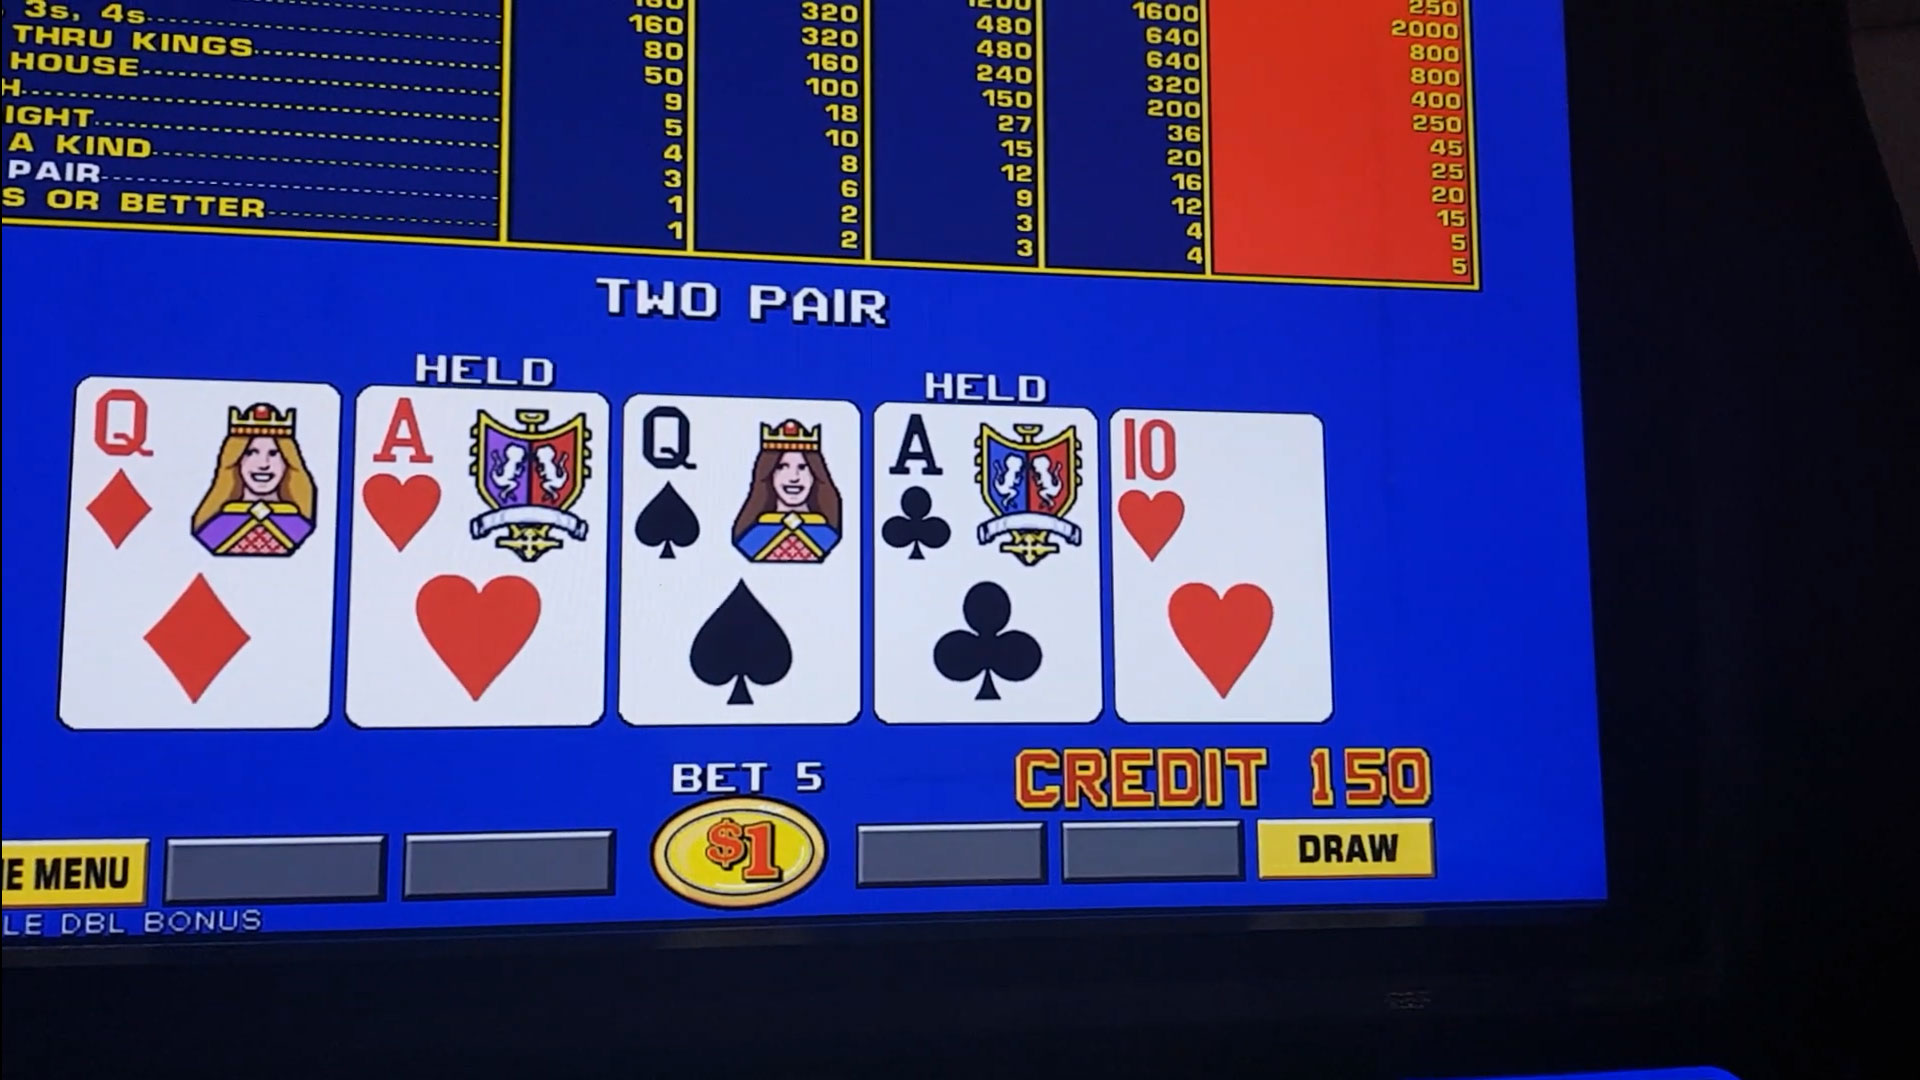CA: (877, 405, 1084, 567)
DQ: (80, 382, 334, 562)
HA: (361, 396, 605, 559)
HT: (1117, 415, 1320, 568)
SQ: (625, 404, 862, 560)
